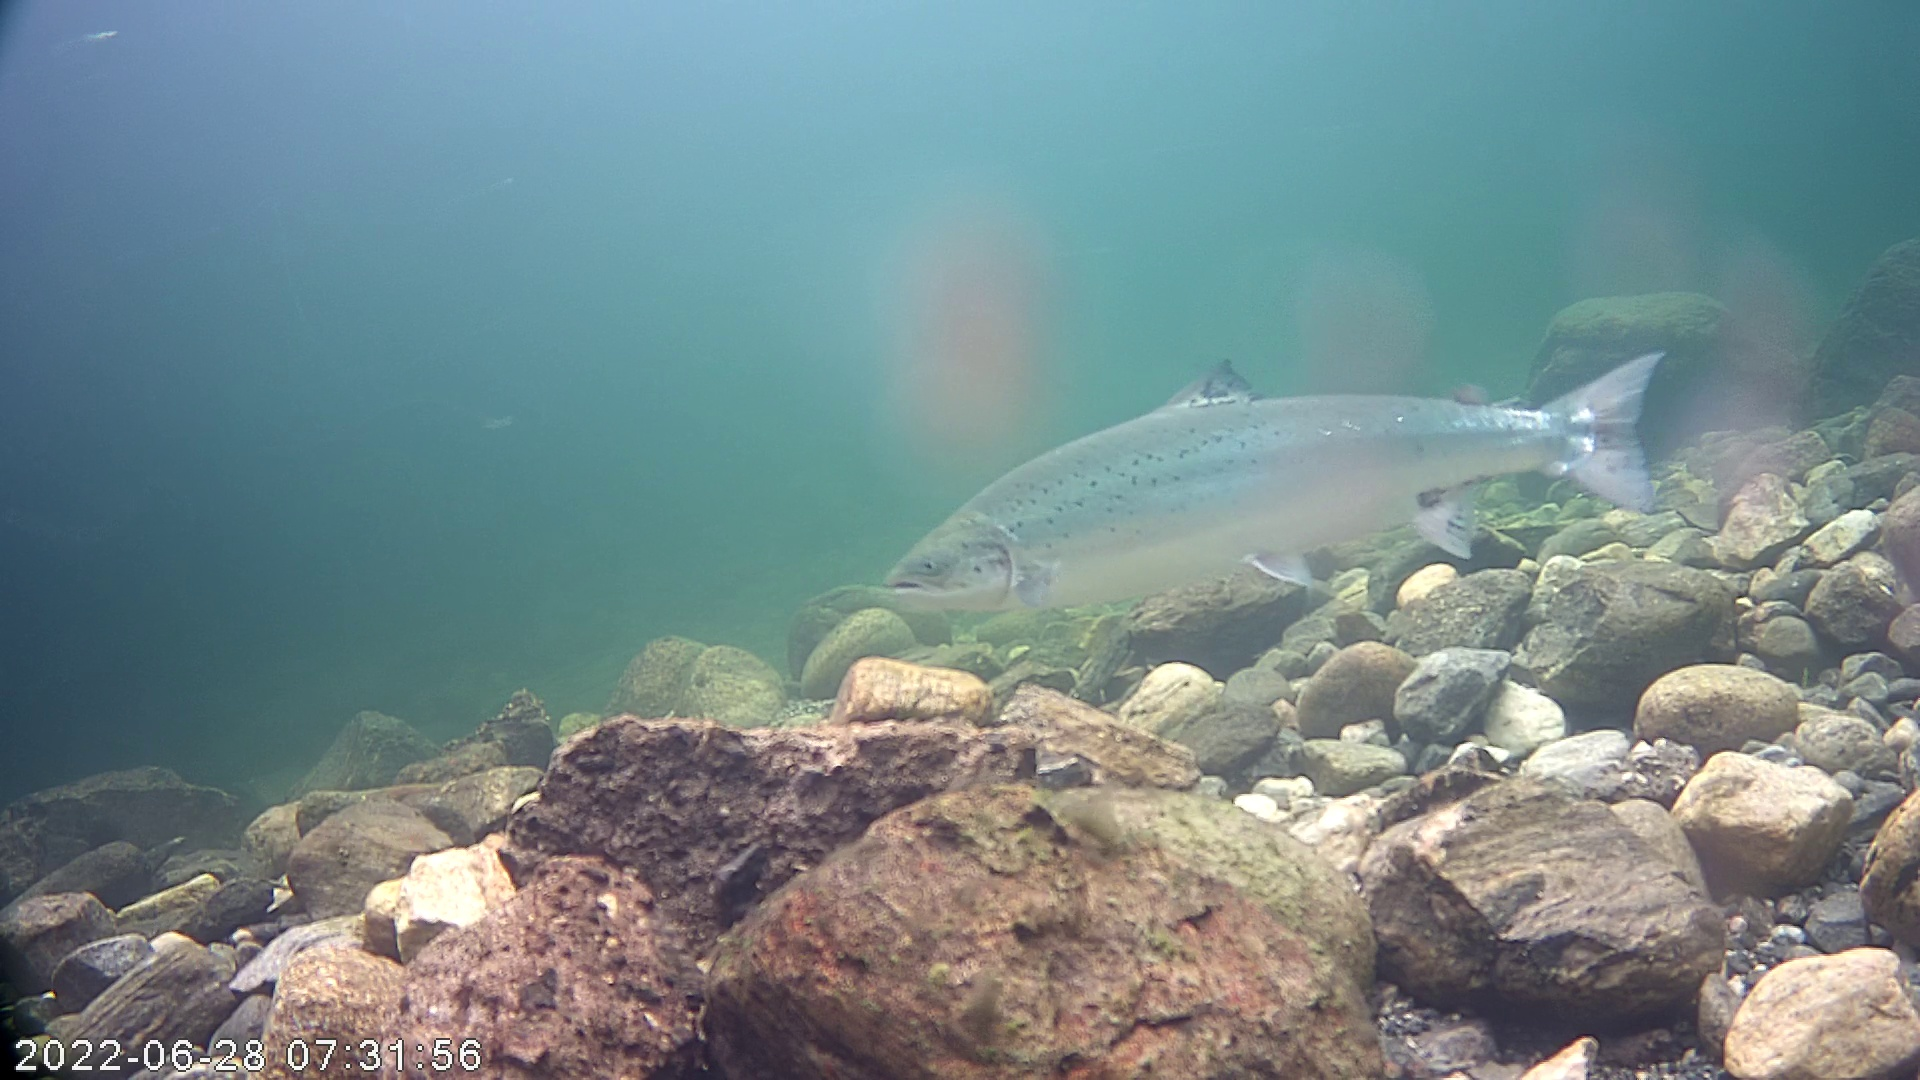salmon: (873, 231, 1692, 662)
